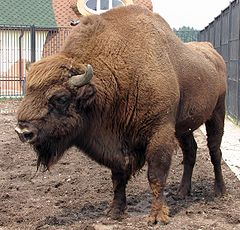zubr: (2, 4, 231, 230)
